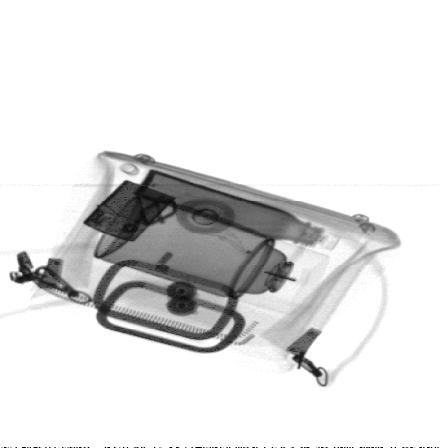Lighter: (83, 181, 176, 242)
Sprayer: (94, 195, 334, 318)
